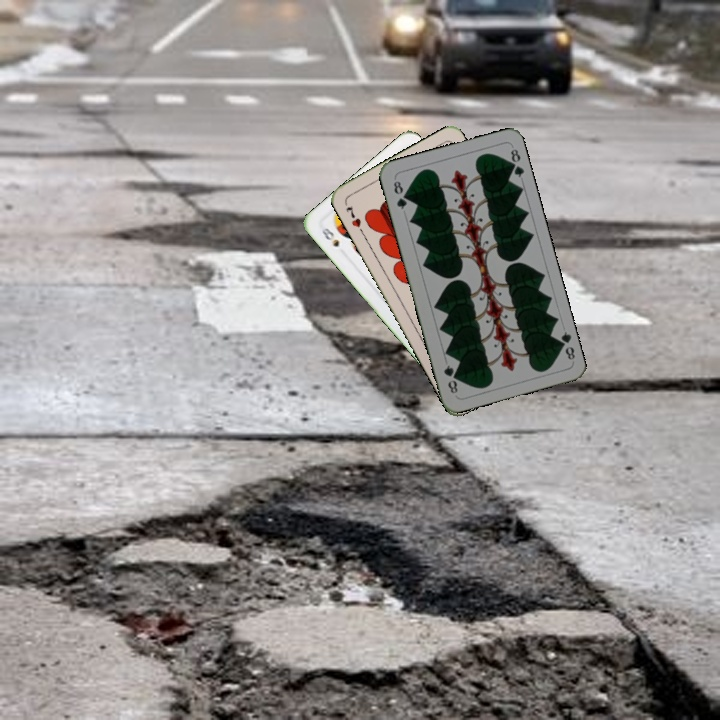G8: (553, 327, 578, 362), (389, 177, 409, 212)
H7: (342, 202, 366, 236)
S8: (317, 224, 342, 250)
